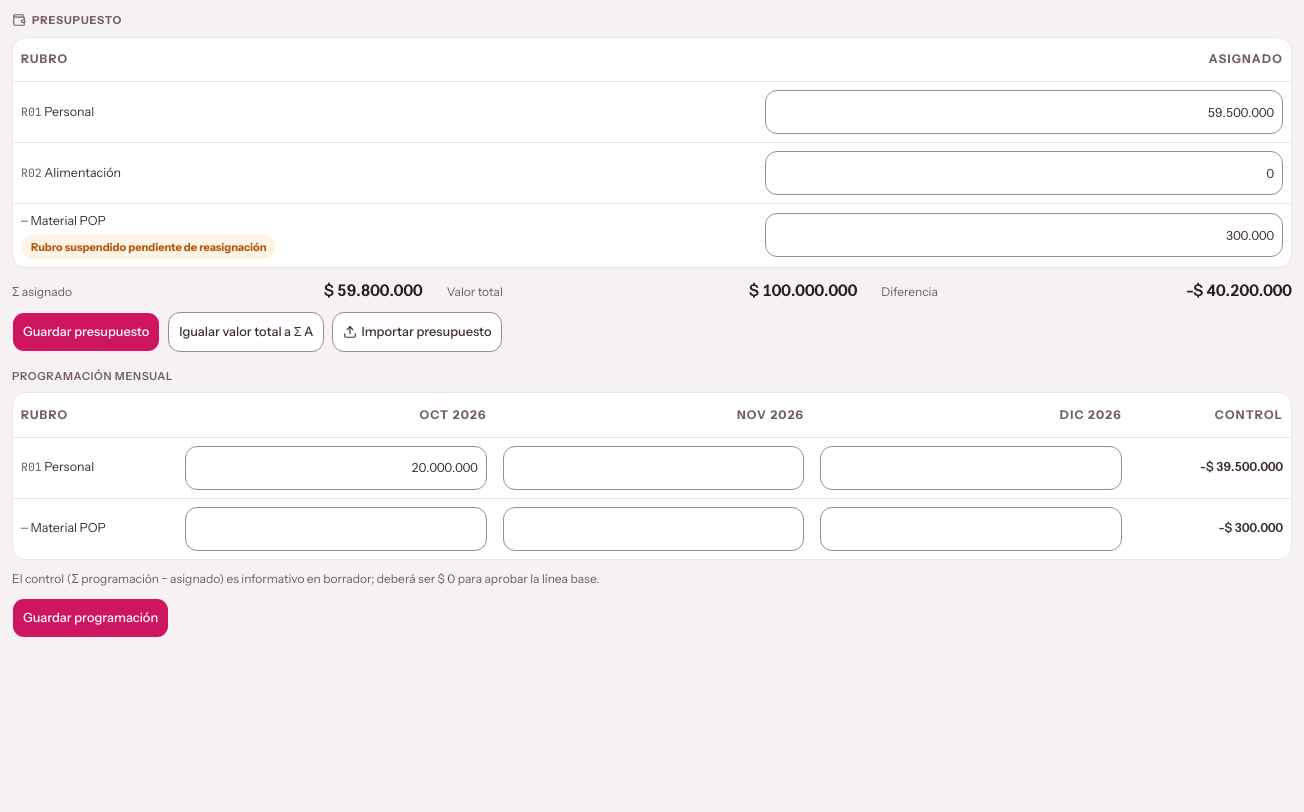
ProjectPresupuesto › never reinterprets the allocation 1.234{backspace}: it is rejected and not sent
Replace the text in the field named "Asignado R02" with "1.234" at (1024, 173), box left=765, top=151, right=1283, bottom=195
Then press Backspace
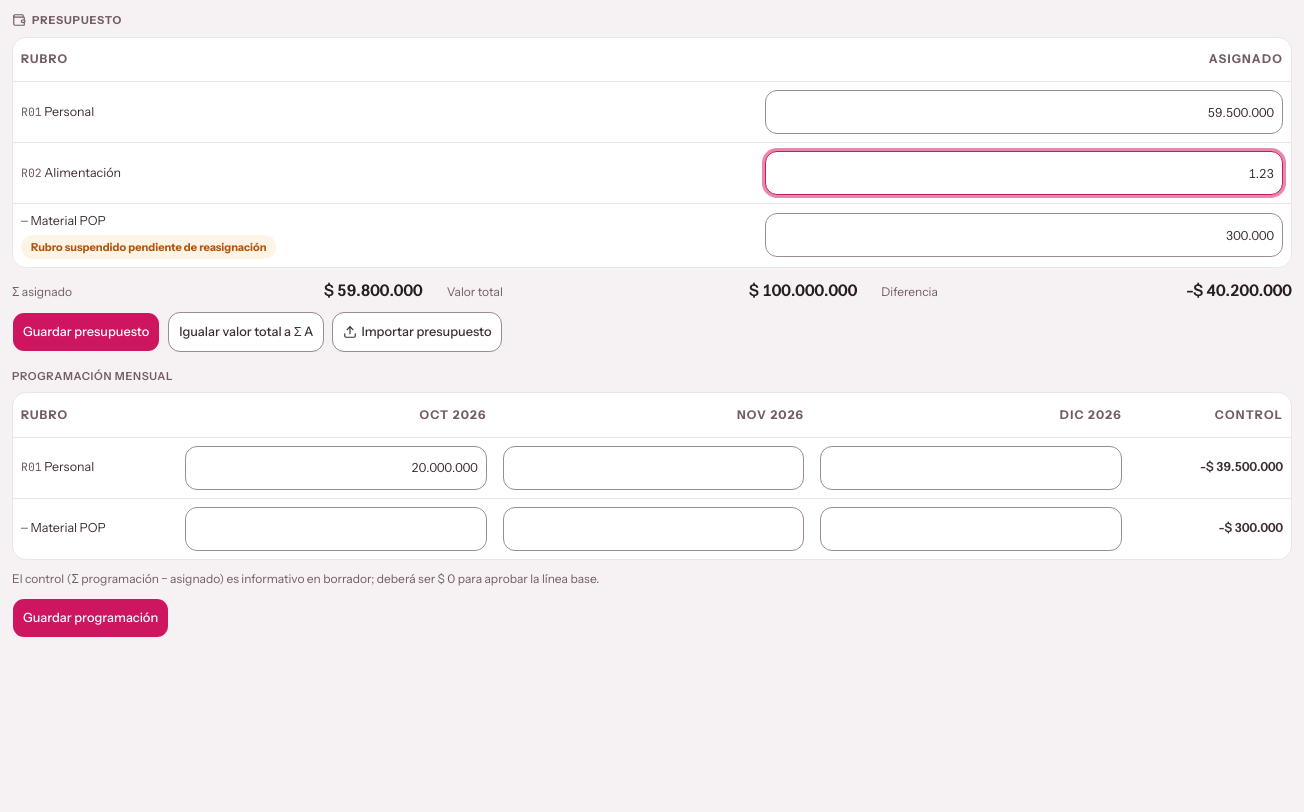
Press Tab
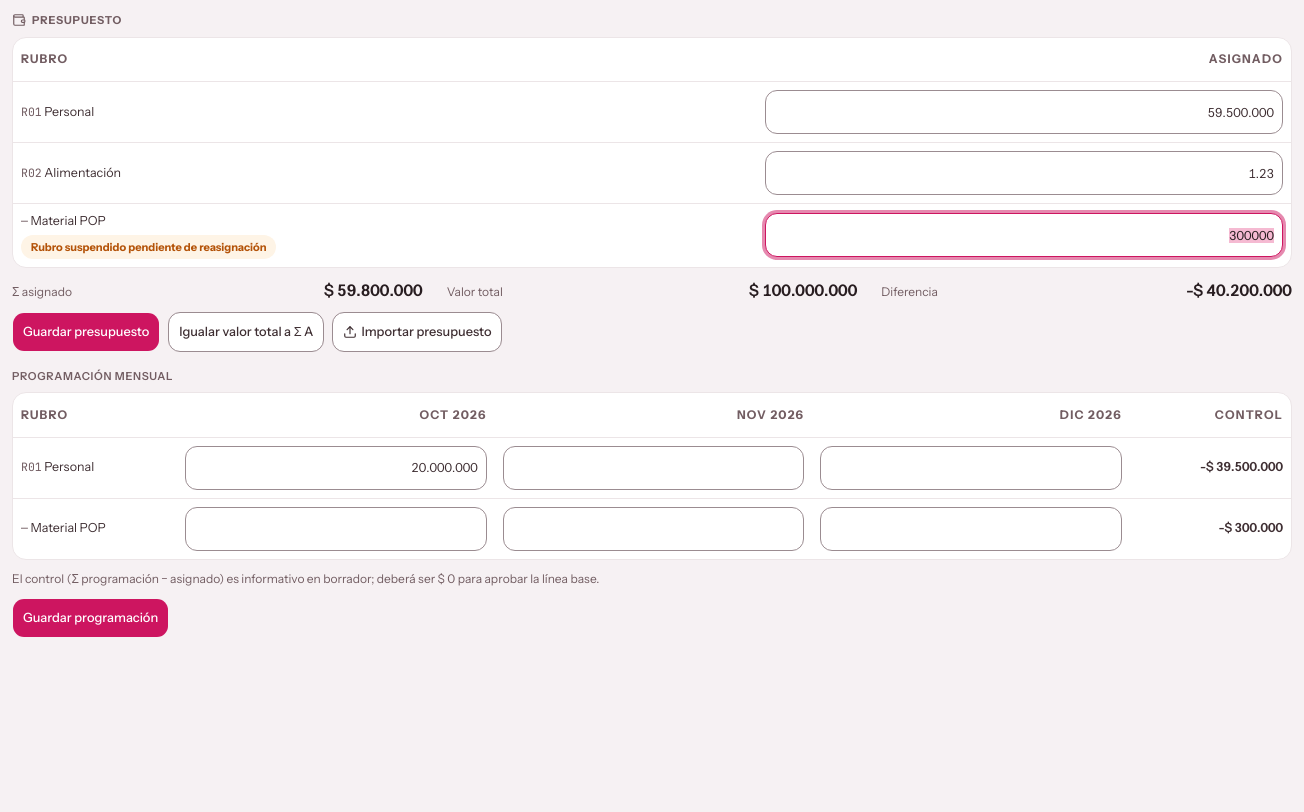
Expected: the field named "Asignado R02" holds "1.23", left=765, top=151, right=1283, bottom=195
Click the button "Guardar presupuesto" at (86, 332), box left=12, top=312, right=160, bottom=352
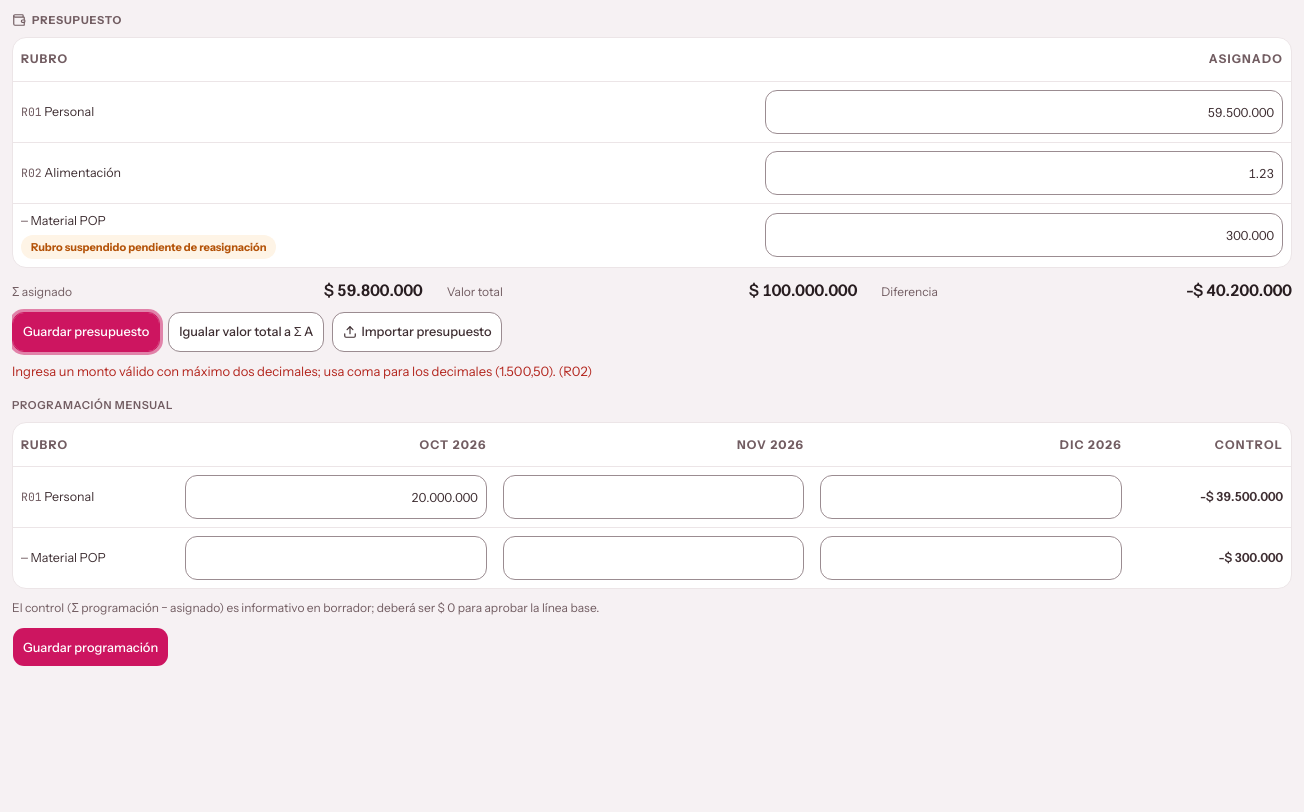
Expected: the message shows "usa coma", left=12, top=363, right=592, bottom=379
